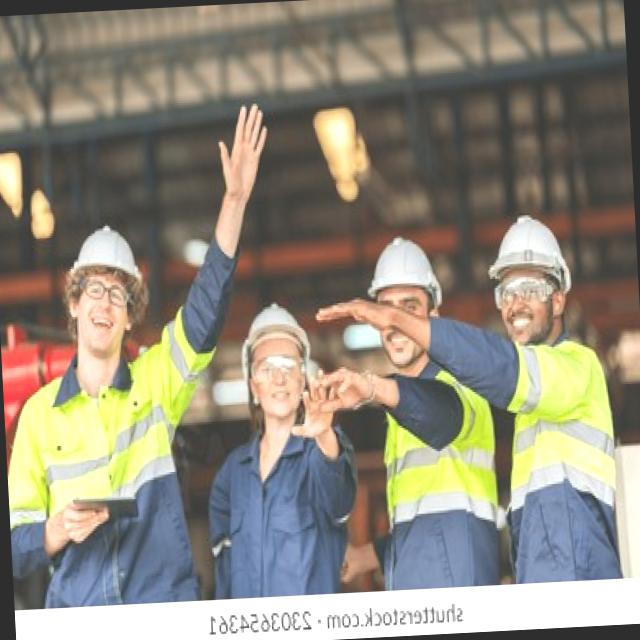goggles: (489, 275, 562, 316), (243, 352, 310, 386)
helmet: (480, 208, 575, 292), (360, 233, 454, 304), (69, 214, 151, 286), (234, 292, 316, 362)
no-vest: (216, 426, 331, 568)
vest: (2, 359, 196, 604), (496, 333, 621, 587), (364, 372, 494, 586)
